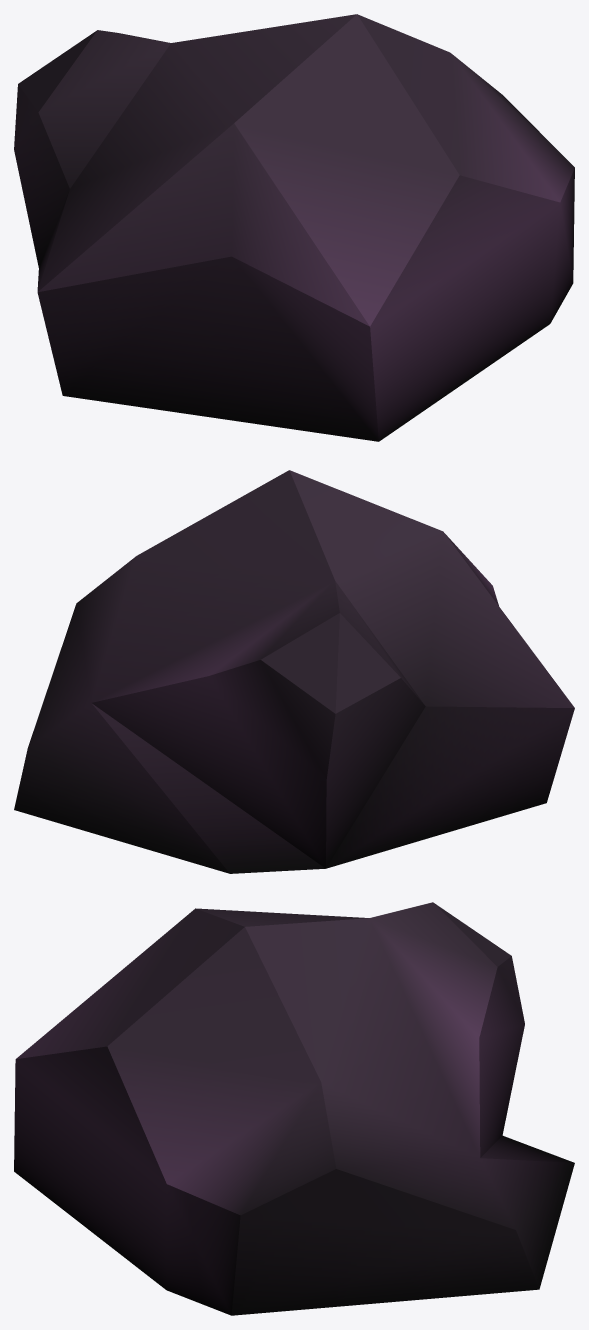
File: Rock1.fbx
The picture shows the model from 3 angles, top to bottom: view 1: azimuth 30°, elevation 25°; view 2: azimuth 150°, elevation 25°; view 3: azimuth 270°, elevation 25°; orthographic projection. The views are drawn at different scales.
Parts seen in each view (by area): view 1: Rock1Outer; view 2: Rock1Outer; view 3: Rock1Outer.
Part boxes in pixels (bbox=[...]): Rock1Outer: bbox=[14, 14, 574, 441]; Rock1Outer: bbox=[14, 470, 574, 873]; Rock1Outer: bbox=[14, 902, 574, 1315].
Size of the model in its own units: 0.0766 by 0.0432 by 0.0741.
